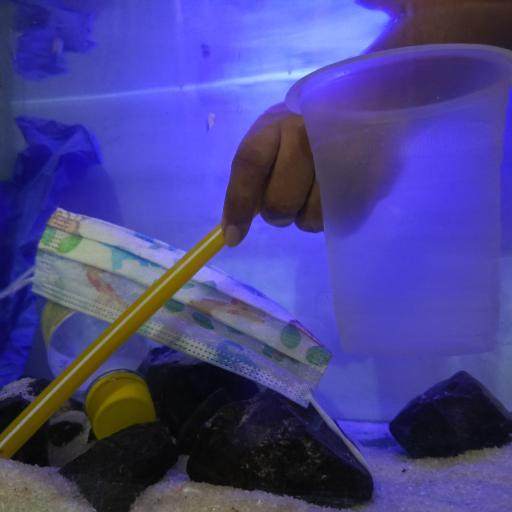bottle_cap: (87, 386, 157, 434)
glove: (0, 113, 101, 373)
mask: (5, 208, 338, 404)
plastic_bottle: (42, 298, 163, 434)
plastic_cup: (285, 39, 512, 358)
plastic_straw: (0, 233, 238, 457)
